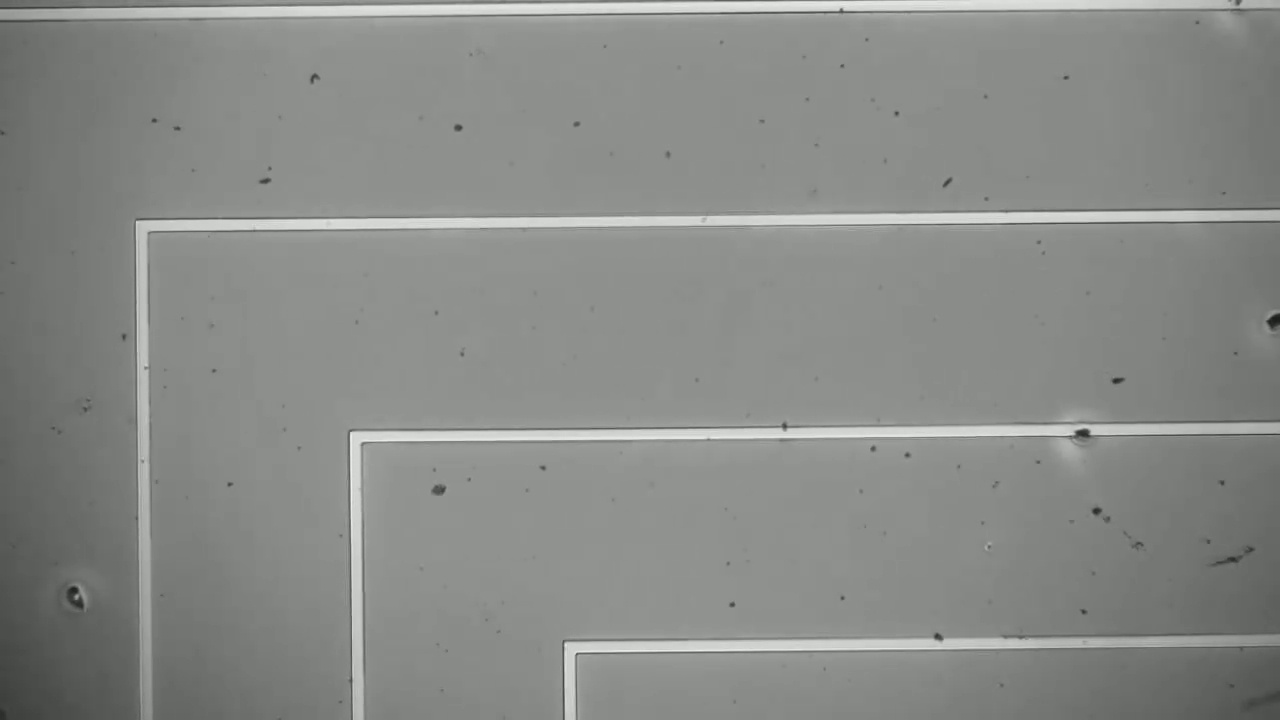stains_enbedded: (1063, 417, 1100, 449)
